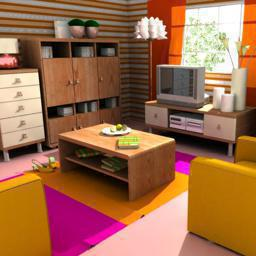Armario: (1, 71, 45, 155)
Ventana: (178, 8, 241, 70)
